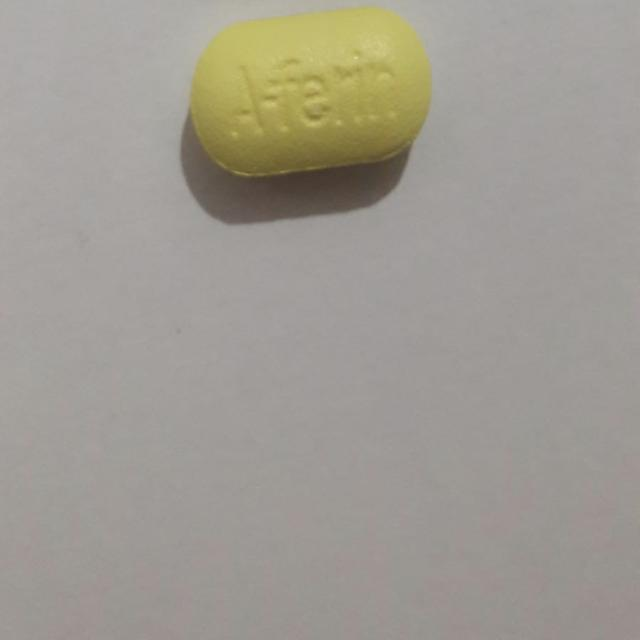pills: (188, 5, 438, 185)
